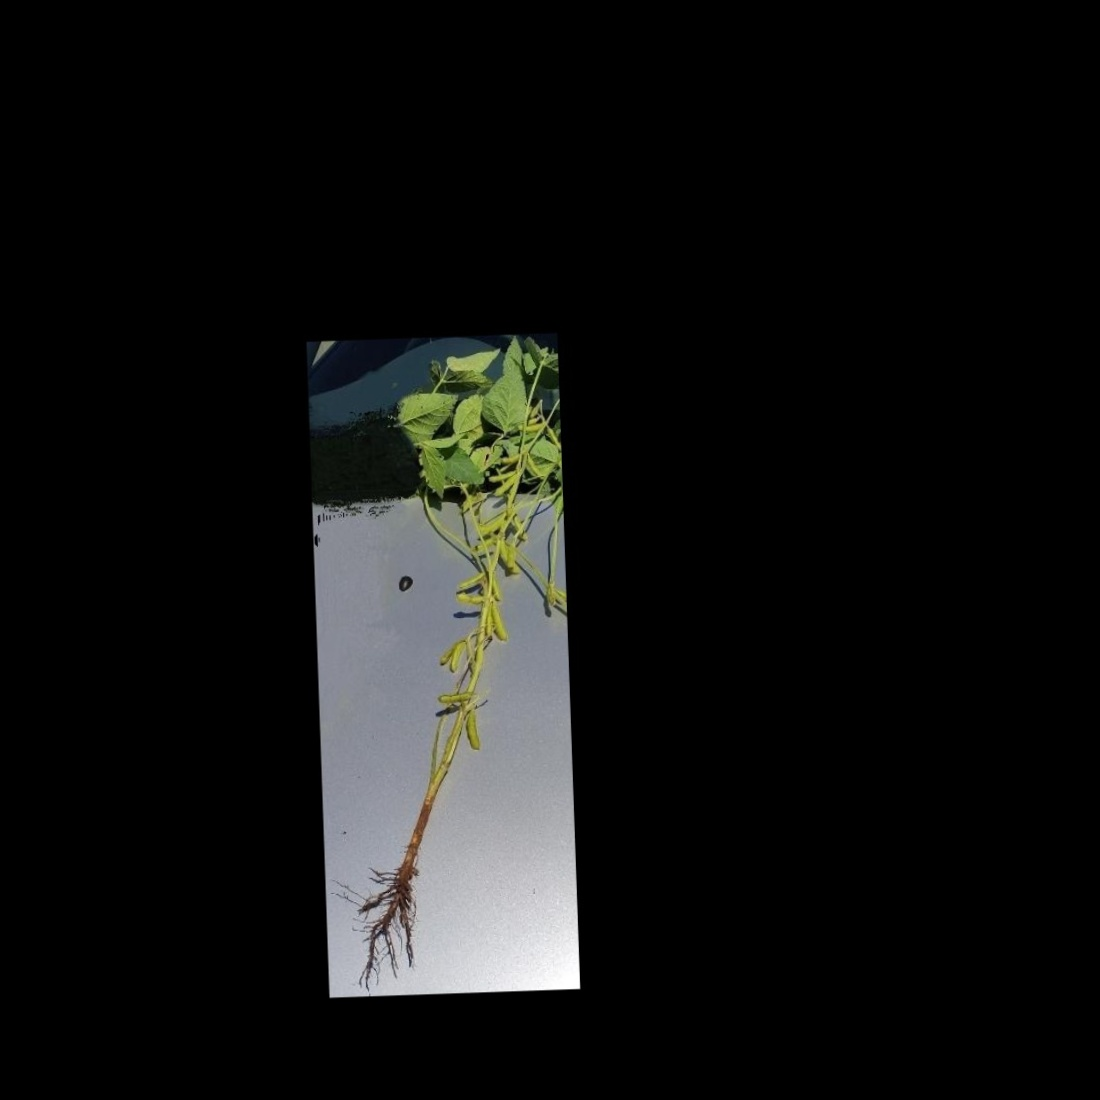pod: (445, 637, 470, 675), (463, 703, 482, 753), (490, 601, 510, 647), (452, 571, 494, 590), (489, 473, 517, 501), (433, 691, 474, 705), (452, 592, 493, 606), (484, 467, 519, 484)
soy: (333, 366, 570, 945)
